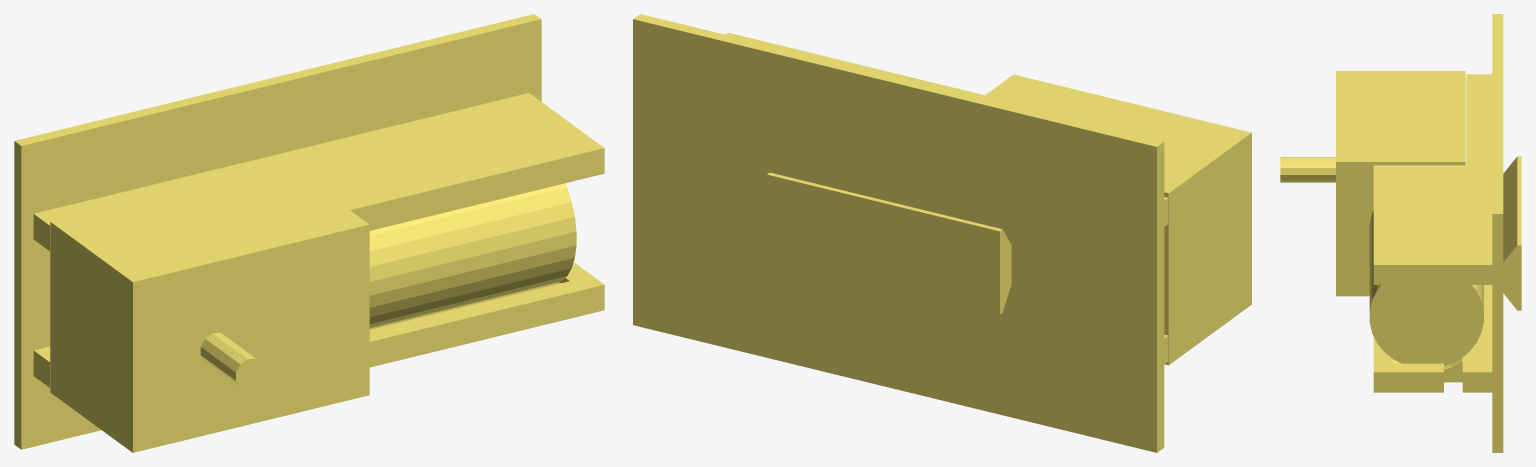
File: test_frame.glb
3 views of the same model, side by side, from view 1: azimuth 30°, elevation 25°; view 2: azimuth 150°, elevation 25°; view 3: azimuth 270°, elevation 25° (orthographic). The views are drawn at different scales.
Visible parts, largest first — view 1: 3MF; view 2: 3MF; view 3: 3MF.
Part boxes in pixels (box(x1,y1,x2,y2)): 3MF: box(14, 14, 604, 452); 3MF: box(633, 14, 1251, 452); 3MF: box(1280, 14, 1521, 452).
Size of the model in its own units: 128 by 71.15 by 65.1.
